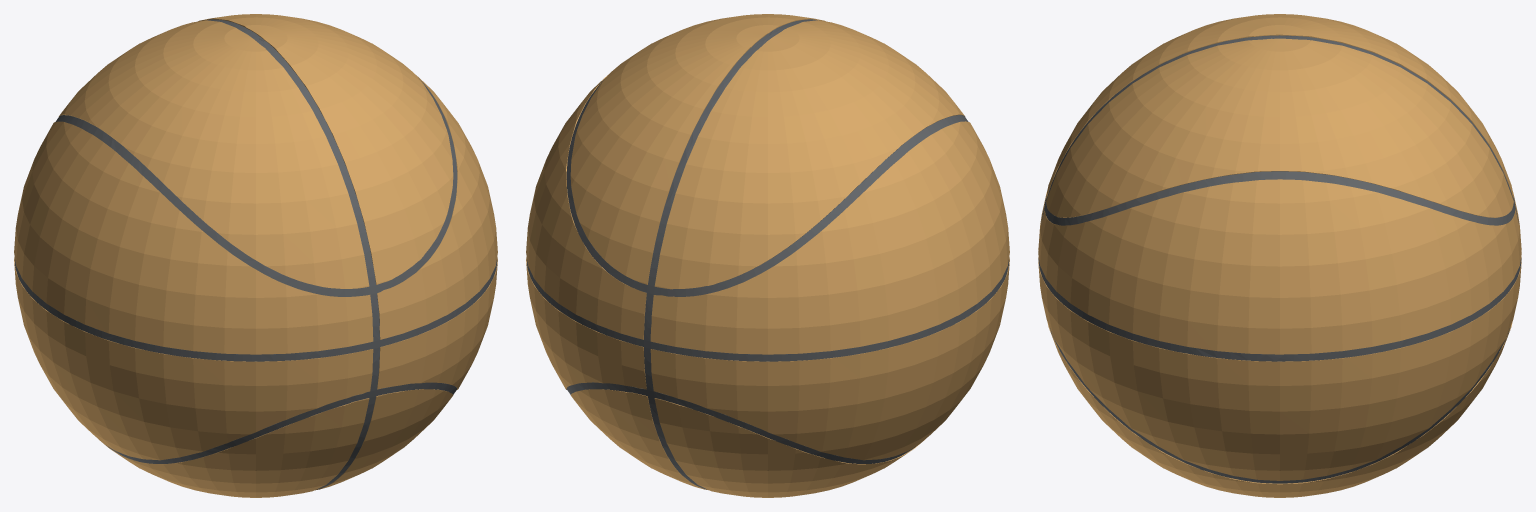
File: basketball.glb
The picture shows the model from 3 angles, left to right: view 1: azimuth 30°, elevation 25°; view 2: azimuth 150°, elevation 25°; view 3: azimuth 270°, elevation 25°; orthographic projection.
Parts seen in each view (by area): view 1: Mesh_Mesh_head_geo.001_lambert2SG.001; view 2: Mesh_Mesh_head_geo.001_lambert2SG.001; view 3: Mesh_Mesh_head_geo.001_lambert2SG.001.
Boxes of the visible parts, x1,y1,x2,y2 form: Mesh_Mesh_head_geo.001_lambert2SG.001: [14, 14, 497, 497]; Mesh_Mesh_head_geo.001_lambert2SG.001: [526, 14, 1009, 497]; Mesh_Mesh_head_geo.001_lambert2SG.001: [1038, 14, 1521, 497].
Bounding box in the file's own units: 49.96 × 49.99 × 49.91.
